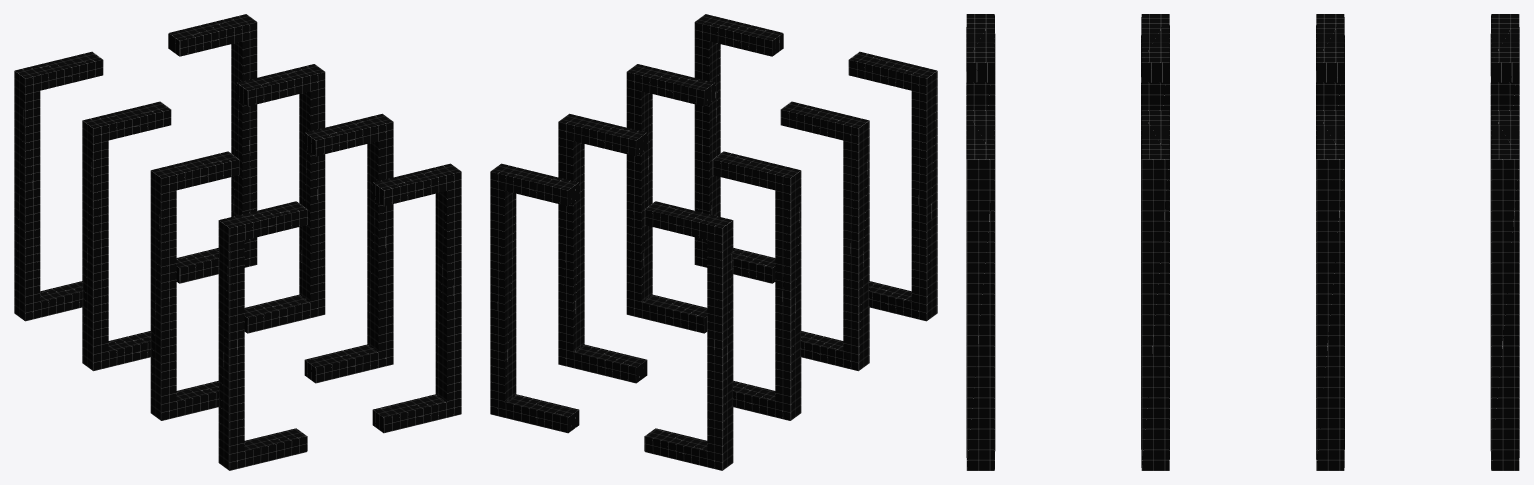
File: Beams-11.glb
3 views of the same model, side by side, from view 1: azimuth 30°, elevation 25°; view 2: azimuth 150°, elevation 25°; view 3: azimuth 270°, elevation 25° (orthographic). The views are drawn at different scales.
Visible parts, largest first — view 1: Cube.001; view 2: Cube.001; view 3: Cube.001.
Boxes of the visible parts, <box> form: Cube.001: <box>14,14,461,470</box>; Cube.001: <box>490,14,937,470</box>; Cube.001: <box>966,14,1519,470</box>.
Size of the model in its own units: 1.31 by 1.31 by 2.1.
1 material, 1 textured.
